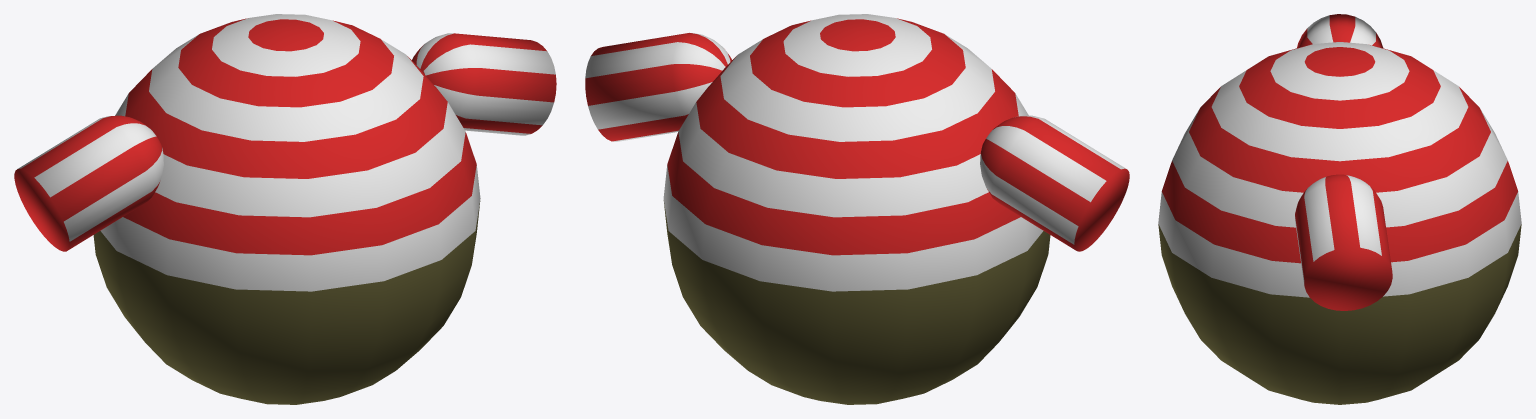
The model's file is PersonRagdollMesh.dae.
The picture shows the model from 3 angles, left to right: view 1: azimuth 30°, elevation 25°; view 2: azimuth 150°, elevation 25°; view 3: azimuth 270°, elevation 25°; orthographic projection. The views are drawn at different scales.
Visible parts, largest first — view 1: Target_001; view 2: Target_001; view 3: Target_001.
Part boxes in pixels (x1=…): Target_001: x1=14, y1=14, x2=556, y2=404; Target_001: x1=585, y1=14, x2=1129, y2=404; Target_001: x1=1158, y1=14, x2=1521, y2=404.
Size of the model in its own units: 3.04 by 2 by 2.
